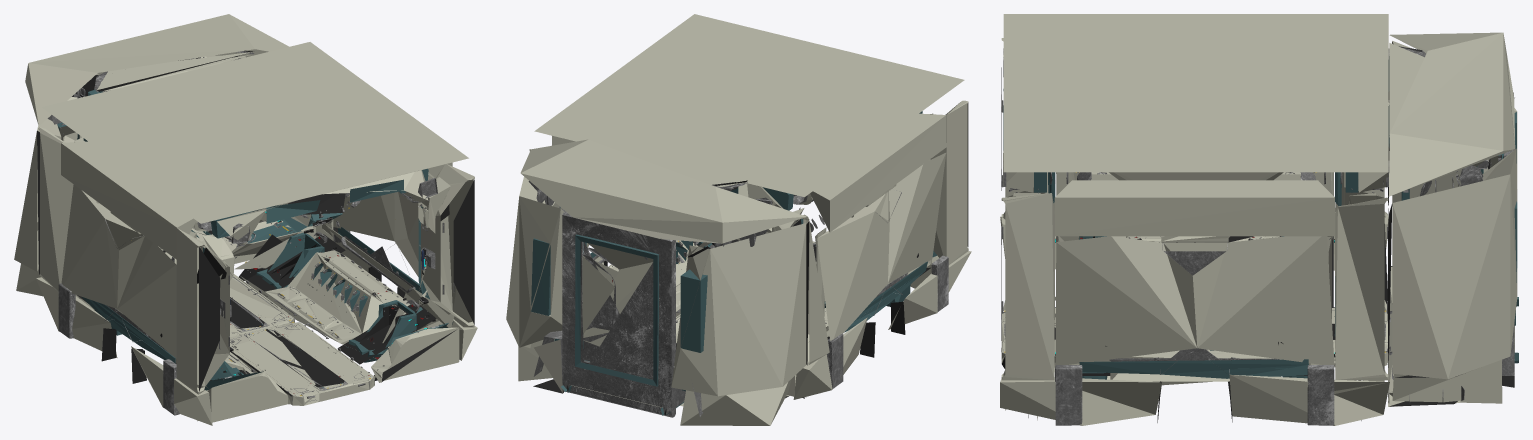
File: hallway.glb
The picture shows the model from 3 angles, left to right: view 1: azimuth 30°, elevation 25°; view 2: azimuth 150°, elevation 25°; view 3: azimuth 270°, elevation 25°; orthographic projection. The views are drawn at different scales.
Visible parts, largest first — view 1: Slice.003_Piece.016_1Plastic.001_0, Slice.003_Piece.016_1Rubber.001_0, Slice.003_Piece.001_Piece.006_1Metal_painted.001_0, Slice.003_Piece.016_1Metal.001_0; view 2: Slice.003_Piece.016_1Plastic.001_0, Slice.003_Piece.016_1Metal.001_0, Slice.003_Piece.001_Piece.006_1Metal_painted.001_0, Slice.003_Piece.016_1Rubber.001_0; view 3: Slice.003_Piece.016_1Plastic.001_0, Slice.003_Piece.016_1Metal.001_0, Slice.003_Piece.001_Piece.006_1Metal_painted.001_0, Slice.003_Piece.016_1Rubber.001_0.
Boxes of the visible parts, bbox=[...] form: Slice.003_Piece.016_1Plastic.001_0: bbox=[14, 14, 477, 425]; Slice.003_Piece.016_1Rubber.001_0: bbox=[37, 50, 474, 398]; Slice.003_Piece.001_Piece.006_1Metal_painted.001_0: bbox=[57, 89, 453, 390]; Slice.003_Piece.016_1Metal.001_0: bbox=[47, 51, 454, 415]; Slice.003_Piece.016_1Plastic.001_0: bbox=[506, 14, 971, 425]; Slice.003_Piece.016_1Metal.001_0: bbox=[528, 181, 948, 417]; Slice.003_Piece.001_Piece.006_1Metal_painted.001_0: bbox=[531, 111, 936, 415]; Slice.003_Piece.016_1Rubber.001_0: bbox=[533, 102, 968, 414]; Slice.003_Piece.016_1Plastic.001_0: bbox=[1000, 14, 1517, 425]; Slice.003_Piece.016_1Metal.001_0: bbox=[1001, 46, 1514, 425]; Slice.003_Piece.001_Piece.006_1Metal_painted.001_0: bbox=[1003, 56, 1518, 379]; Slice.003_Piece.016_1Rubber.001_0: bbox=[1001, 42, 1514, 422].
Size of the model in its own units: 4.47 by 3.29 by 5.91.
Materials: 11 (2 with a texture image).
